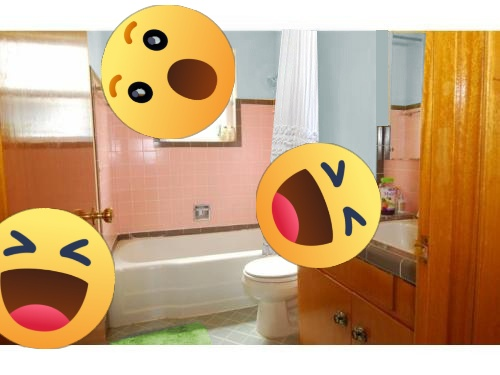haha: (0, 208, 115, 349), (256, 143, 381, 268)
wow: (101, 5, 235, 139)
